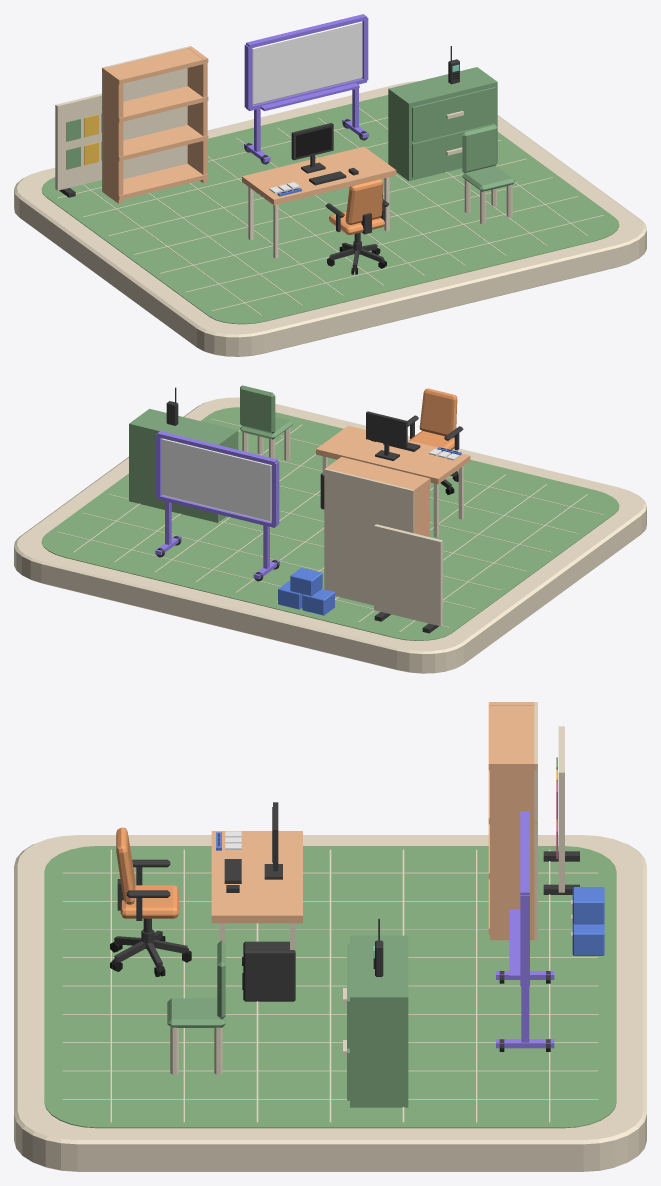
3 renders of one model, top to bottom at view 1: azimuth 30°, elevation 25°; view 2: azimuth 150°, elevation 25°; view 3: azimuth 270°, elevation 25°, orthographic. The views are drawn at different scales.
Visible parts, largest first — view 1: COM-02 Floor Surface, COM-01 Rounded Base Direct, Cabinet, Writing surface, Top, Back, COM-04_Chair_blender_direct, Panel, Side, Side.001, Shelf.003, Shelf.002 (+9 smaller); view 2: COM-02 Floor Surface, COM-01 Rounded Base Direct, Back, Writing surface, Panel, Cabinet, Top, COM-04_Chair_blender_direct, Backrest, Frame, Shelf.003, Frame rail.001 (+7 smaller); view 3: COM-02 Floor Surface, COM-01 Rounded Base Direct, Cabinet, Top, Side.001, COM-04_Chair_blender_direct, Tower, Shelf.003, Seat, Stacked case.002, Panel, Stacked case.001 (+12 smaller).
Boxes of the visible parts, x1,y1,x2,y2 form: COM-02 Floor Surface: (41, 95, 619, 324); COM-01 Rounded Base Direct: (14, 81, 646, 356); Cabinet: (388, 67, 497, 180); Writing surface: (252, 21, 362, 105); Top: (242, 146, 396, 258); Back: (102, 46, 191, 192); COM-04_Chair_blender_direct: (325, 179, 388, 274); Panel: (55, 93, 101, 190); Side: (103, 67, 123, 203); Side.001: (187, 46, 207, 183); Shelf.003: (102, 48, 208, 84); Shelf.002: (102, 86, 208, 122); COM-02 Floor Surface: (41, 407, 619, 640); COM-01 Rounded Base Direct: (14, 397, 646, 673); Back: (324, 468, 414, 605); Writing surface: (161, 438, 271, 521); Panel: (374, 524, 442, 626); Cabinet: (129, 408, 238, 522); Top: (316, 425, 470, 537); COM-04_Chair_blender_direct: (407, 388, 463, 494); Backrest: (240, 385, 275, 433); Frame: (366, 411, 407, 460); Shelf.003: (330, 457, 430, 494); Frame rail.001: (157, 431, 277, 465); COM-02 Floor Surface: (44, 846, 616, 1128); COM-01 Rounded Base Direct: (14, 835, 646, 1171); Cabinet: (343, 935, 408, 1107); Top: (211, 831, 302, 950); Side.001: (490, 760, 535, 940); COM-04_Chair_blender_direct: (110, 827, 191, 976); Tower: (243, 941, 295, 1001); Shelf.003: (488, 702, 537, 770); Seat: (167, 998, 225, 1027); Stacked case.002: (572, 887, 604, 924); Panel: (558, 726, 564, 892); Stacked case.001: (572, 923, 604, 955).
Size of the model in its own units: 6 by 1.9 by 5.2.
Materials: 1 (1 with a texture image).
